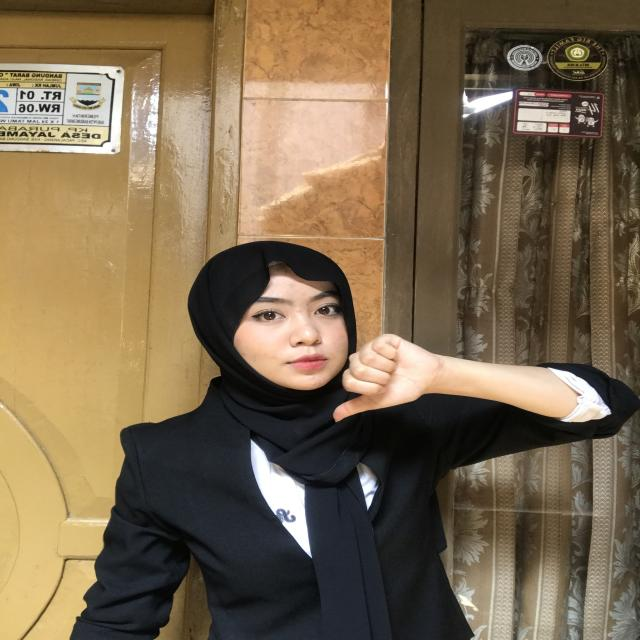sedih: (304, 334, 455, 435)
